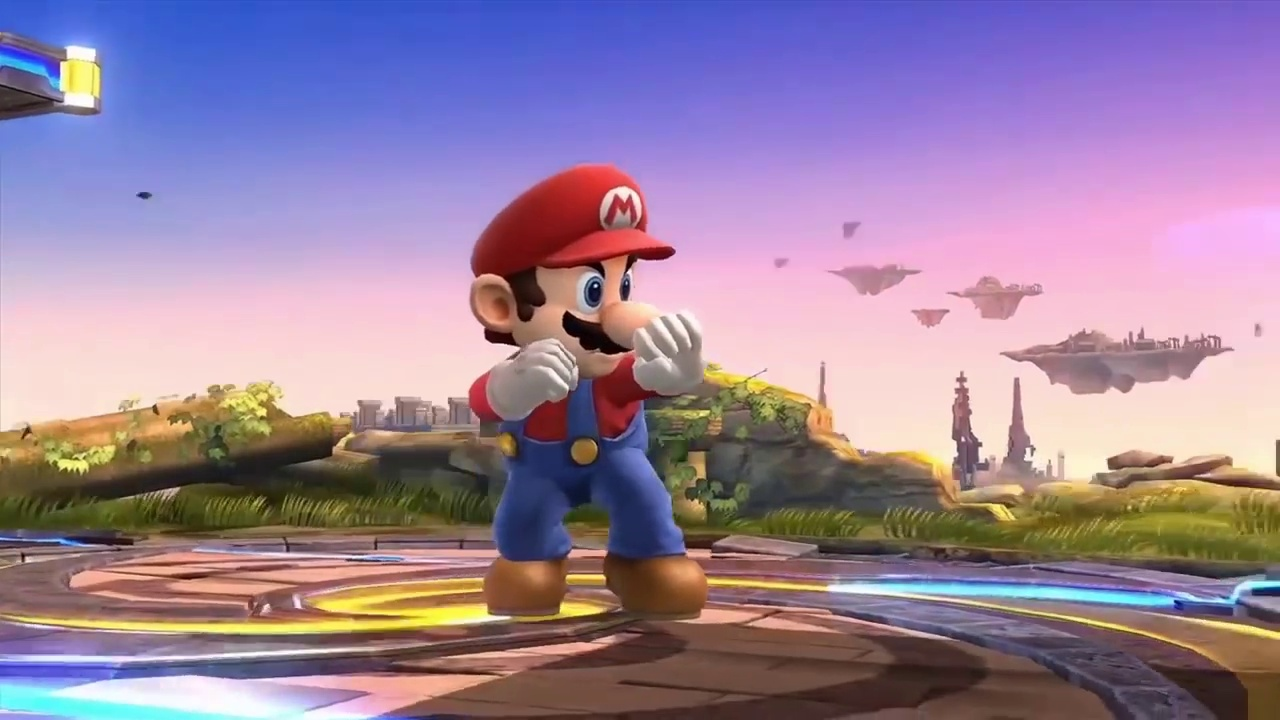Mario: (469, 161, 706, 621)
